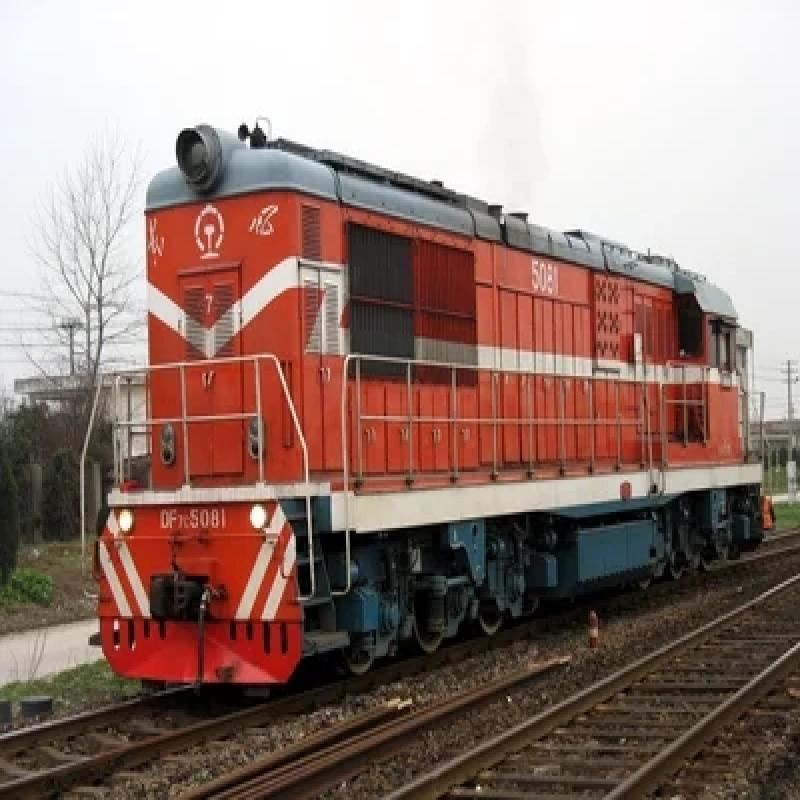train: (95, 102, 783, 700)
